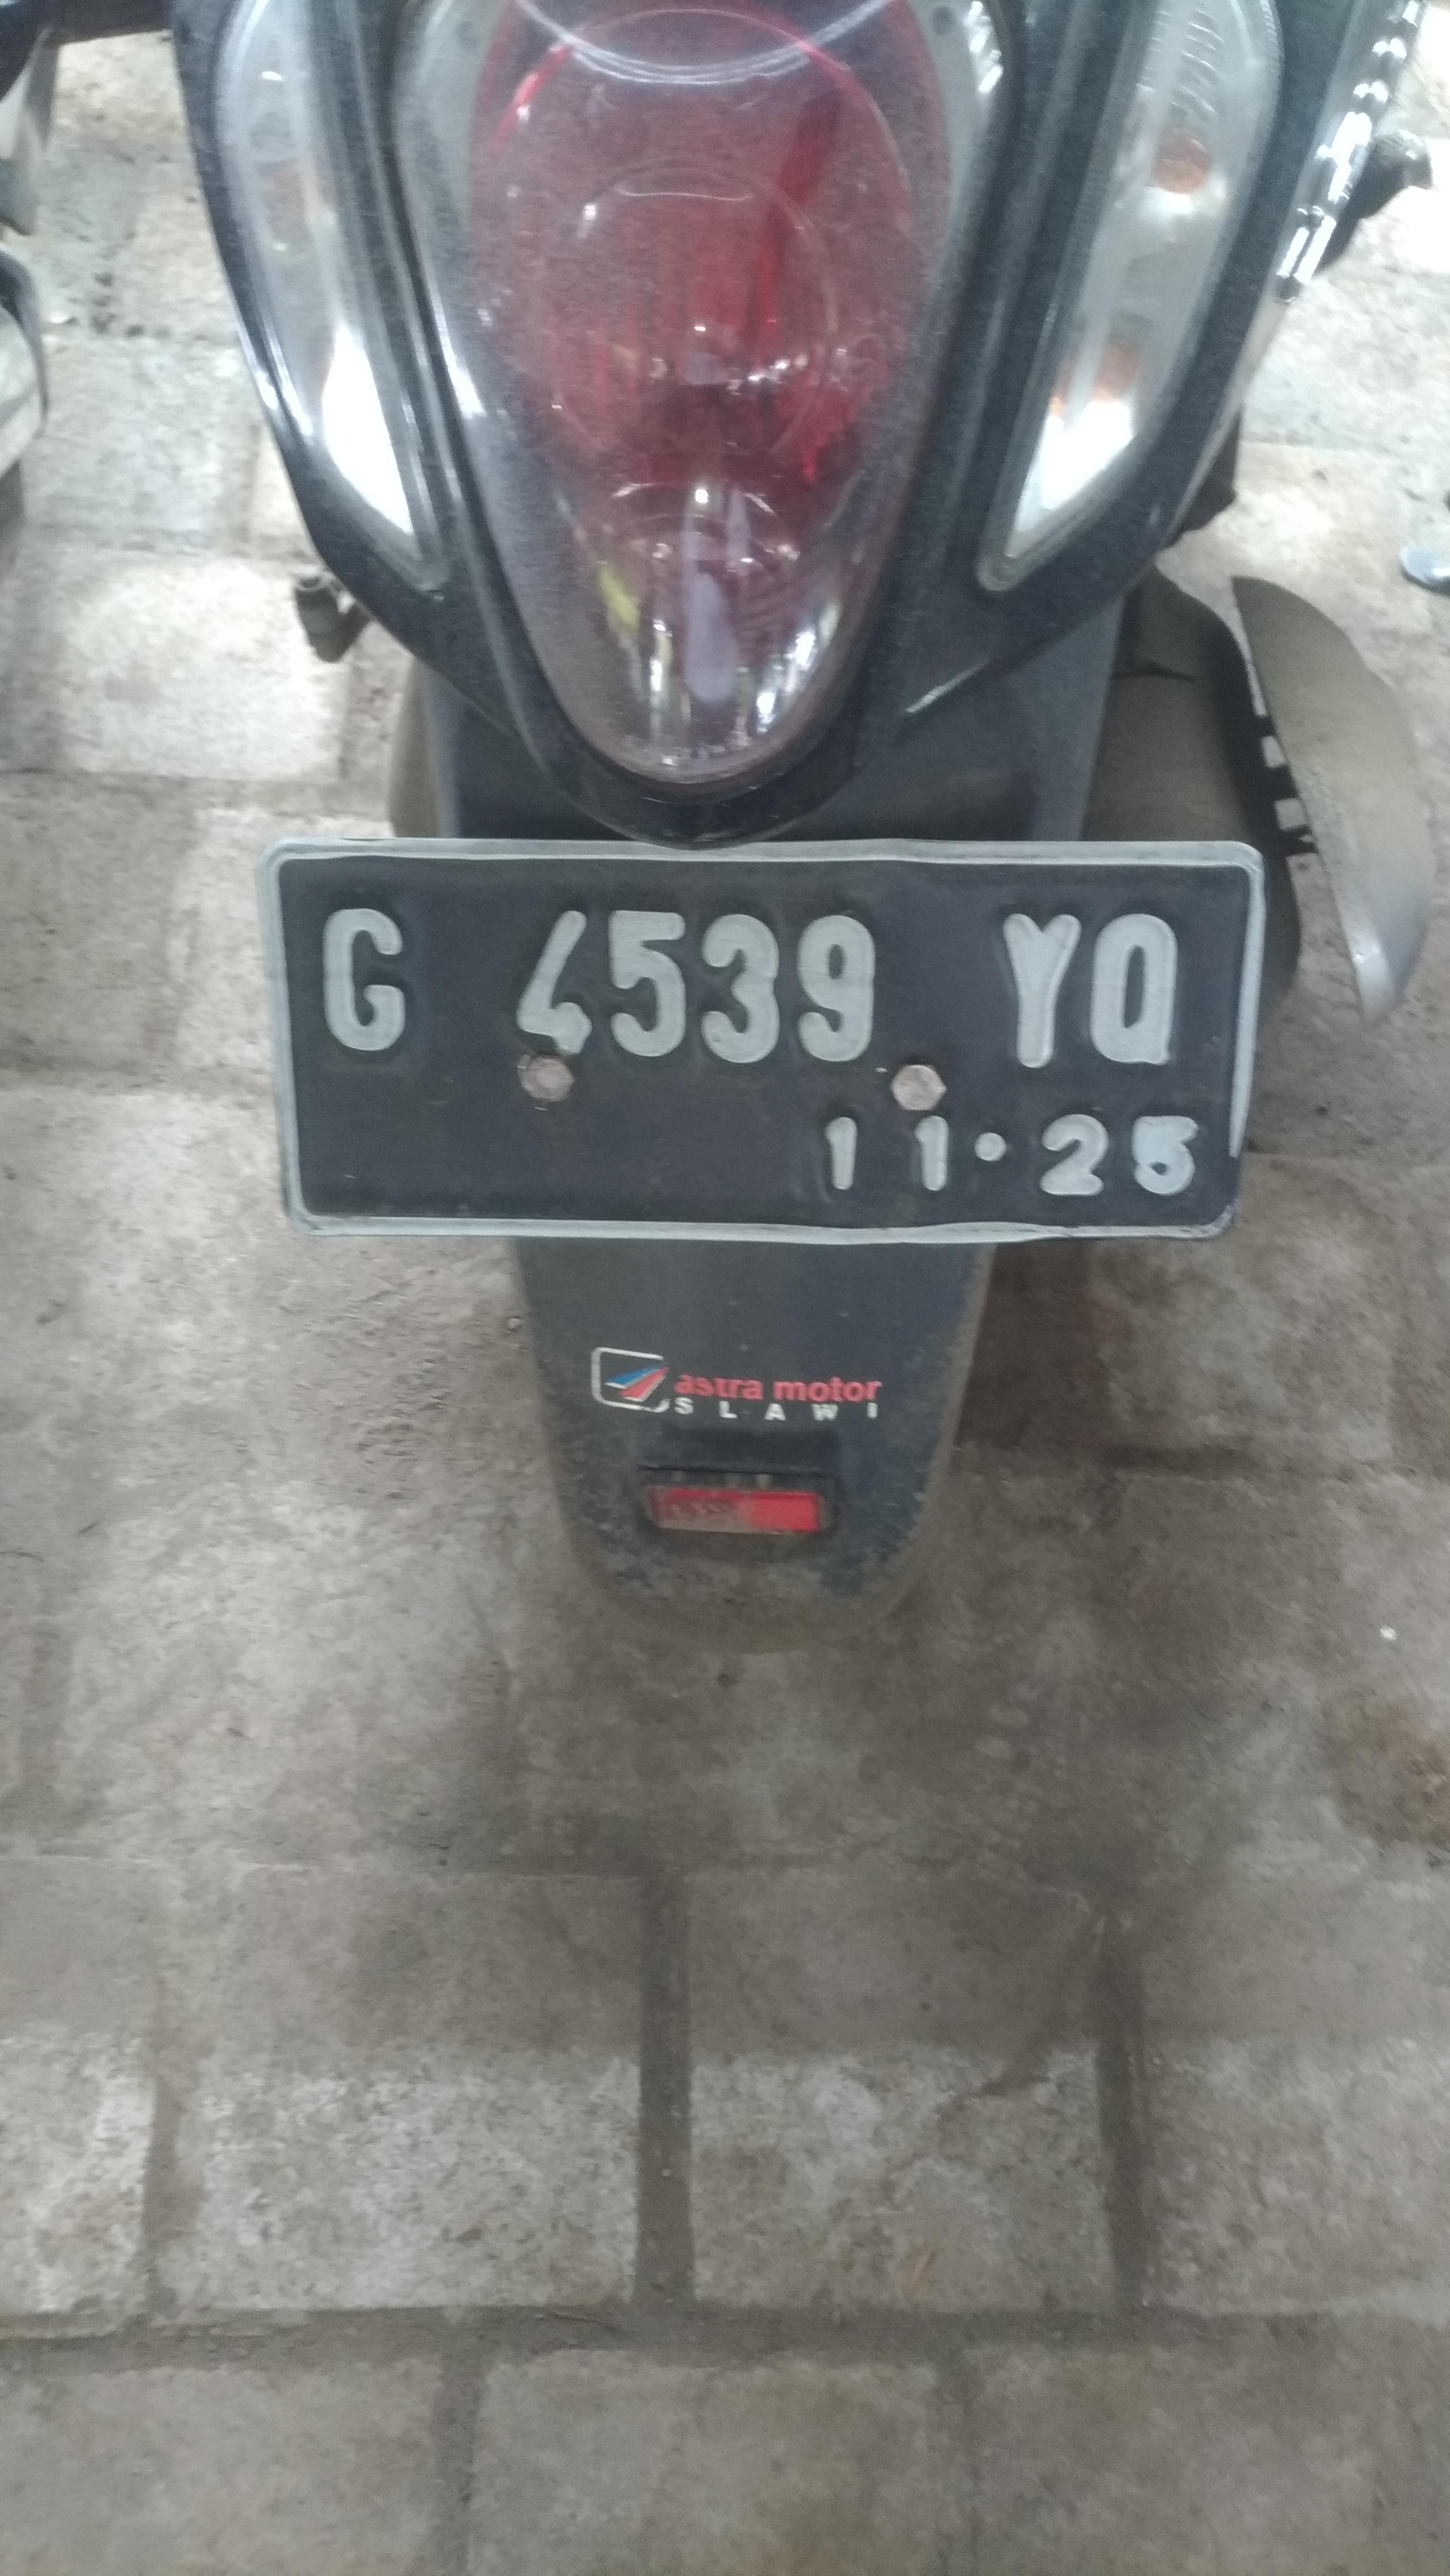clone-license-plate: (257, 842, 1246, 1239)
